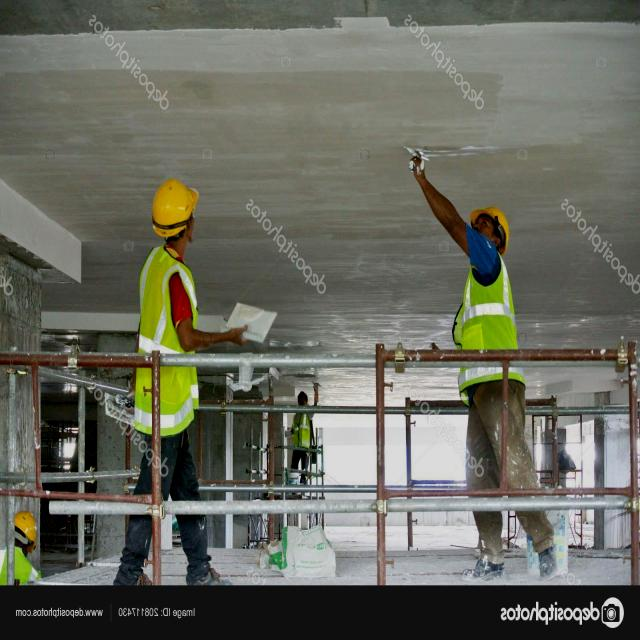hand_noglove: (407, 156, 434, 189), (225, 317, 250, 350)
head_helmet: (146, 178, 201, 238), (469, 207, 510, 246)
person: (455, 194, 553, 582), (115, 179, 208, 585), (279, 382, 321, 478), (0, 513, 33, 596)
shoes: (457, 550, 508, 588)
vest: (135, 253, 194, 437), (456, 255, 514, 390), (0, 552, 31, 587), (294, 409, 314, 446)
